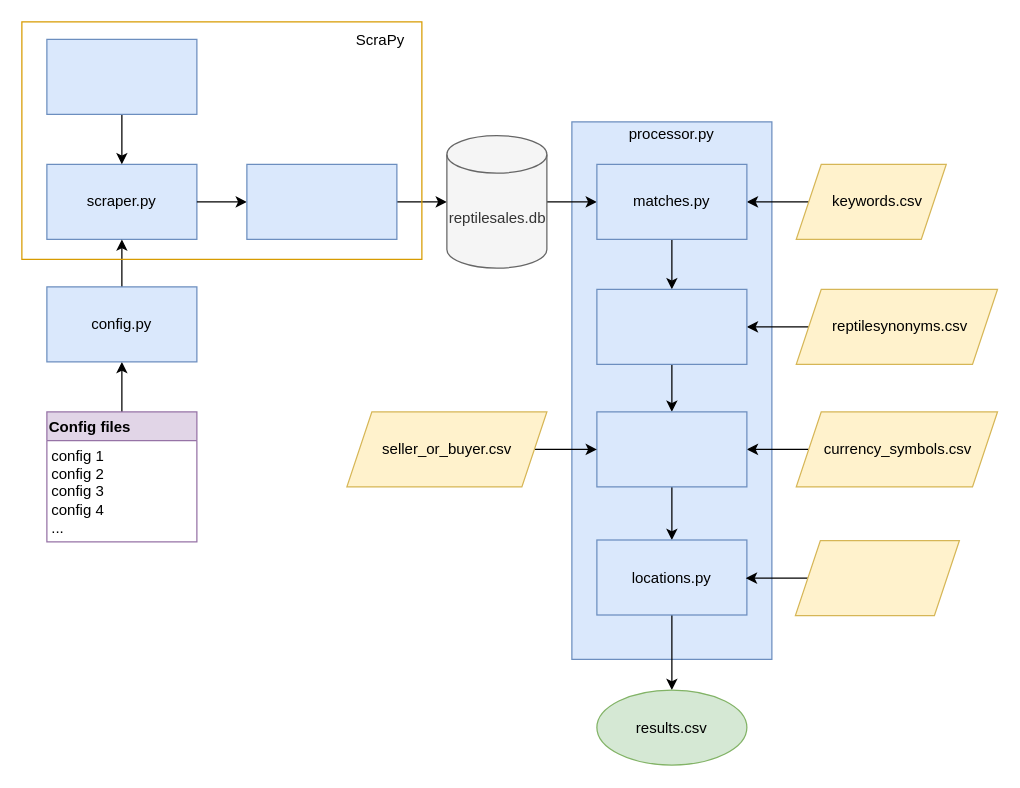
The diagram is 1020 pixels wide and 788 high, and some of its shapes have lost their labels. Each missing label, with the centre of its shape:
"locationlist.csv" belongs at point (876, 577).
"pipelines.py" belongs at point (321, 201).
"settings.py" belongs at point (121, 76).
"species.py" belongs at point (671, 326).
"trader_information.py" belongs at point (671, 449).
